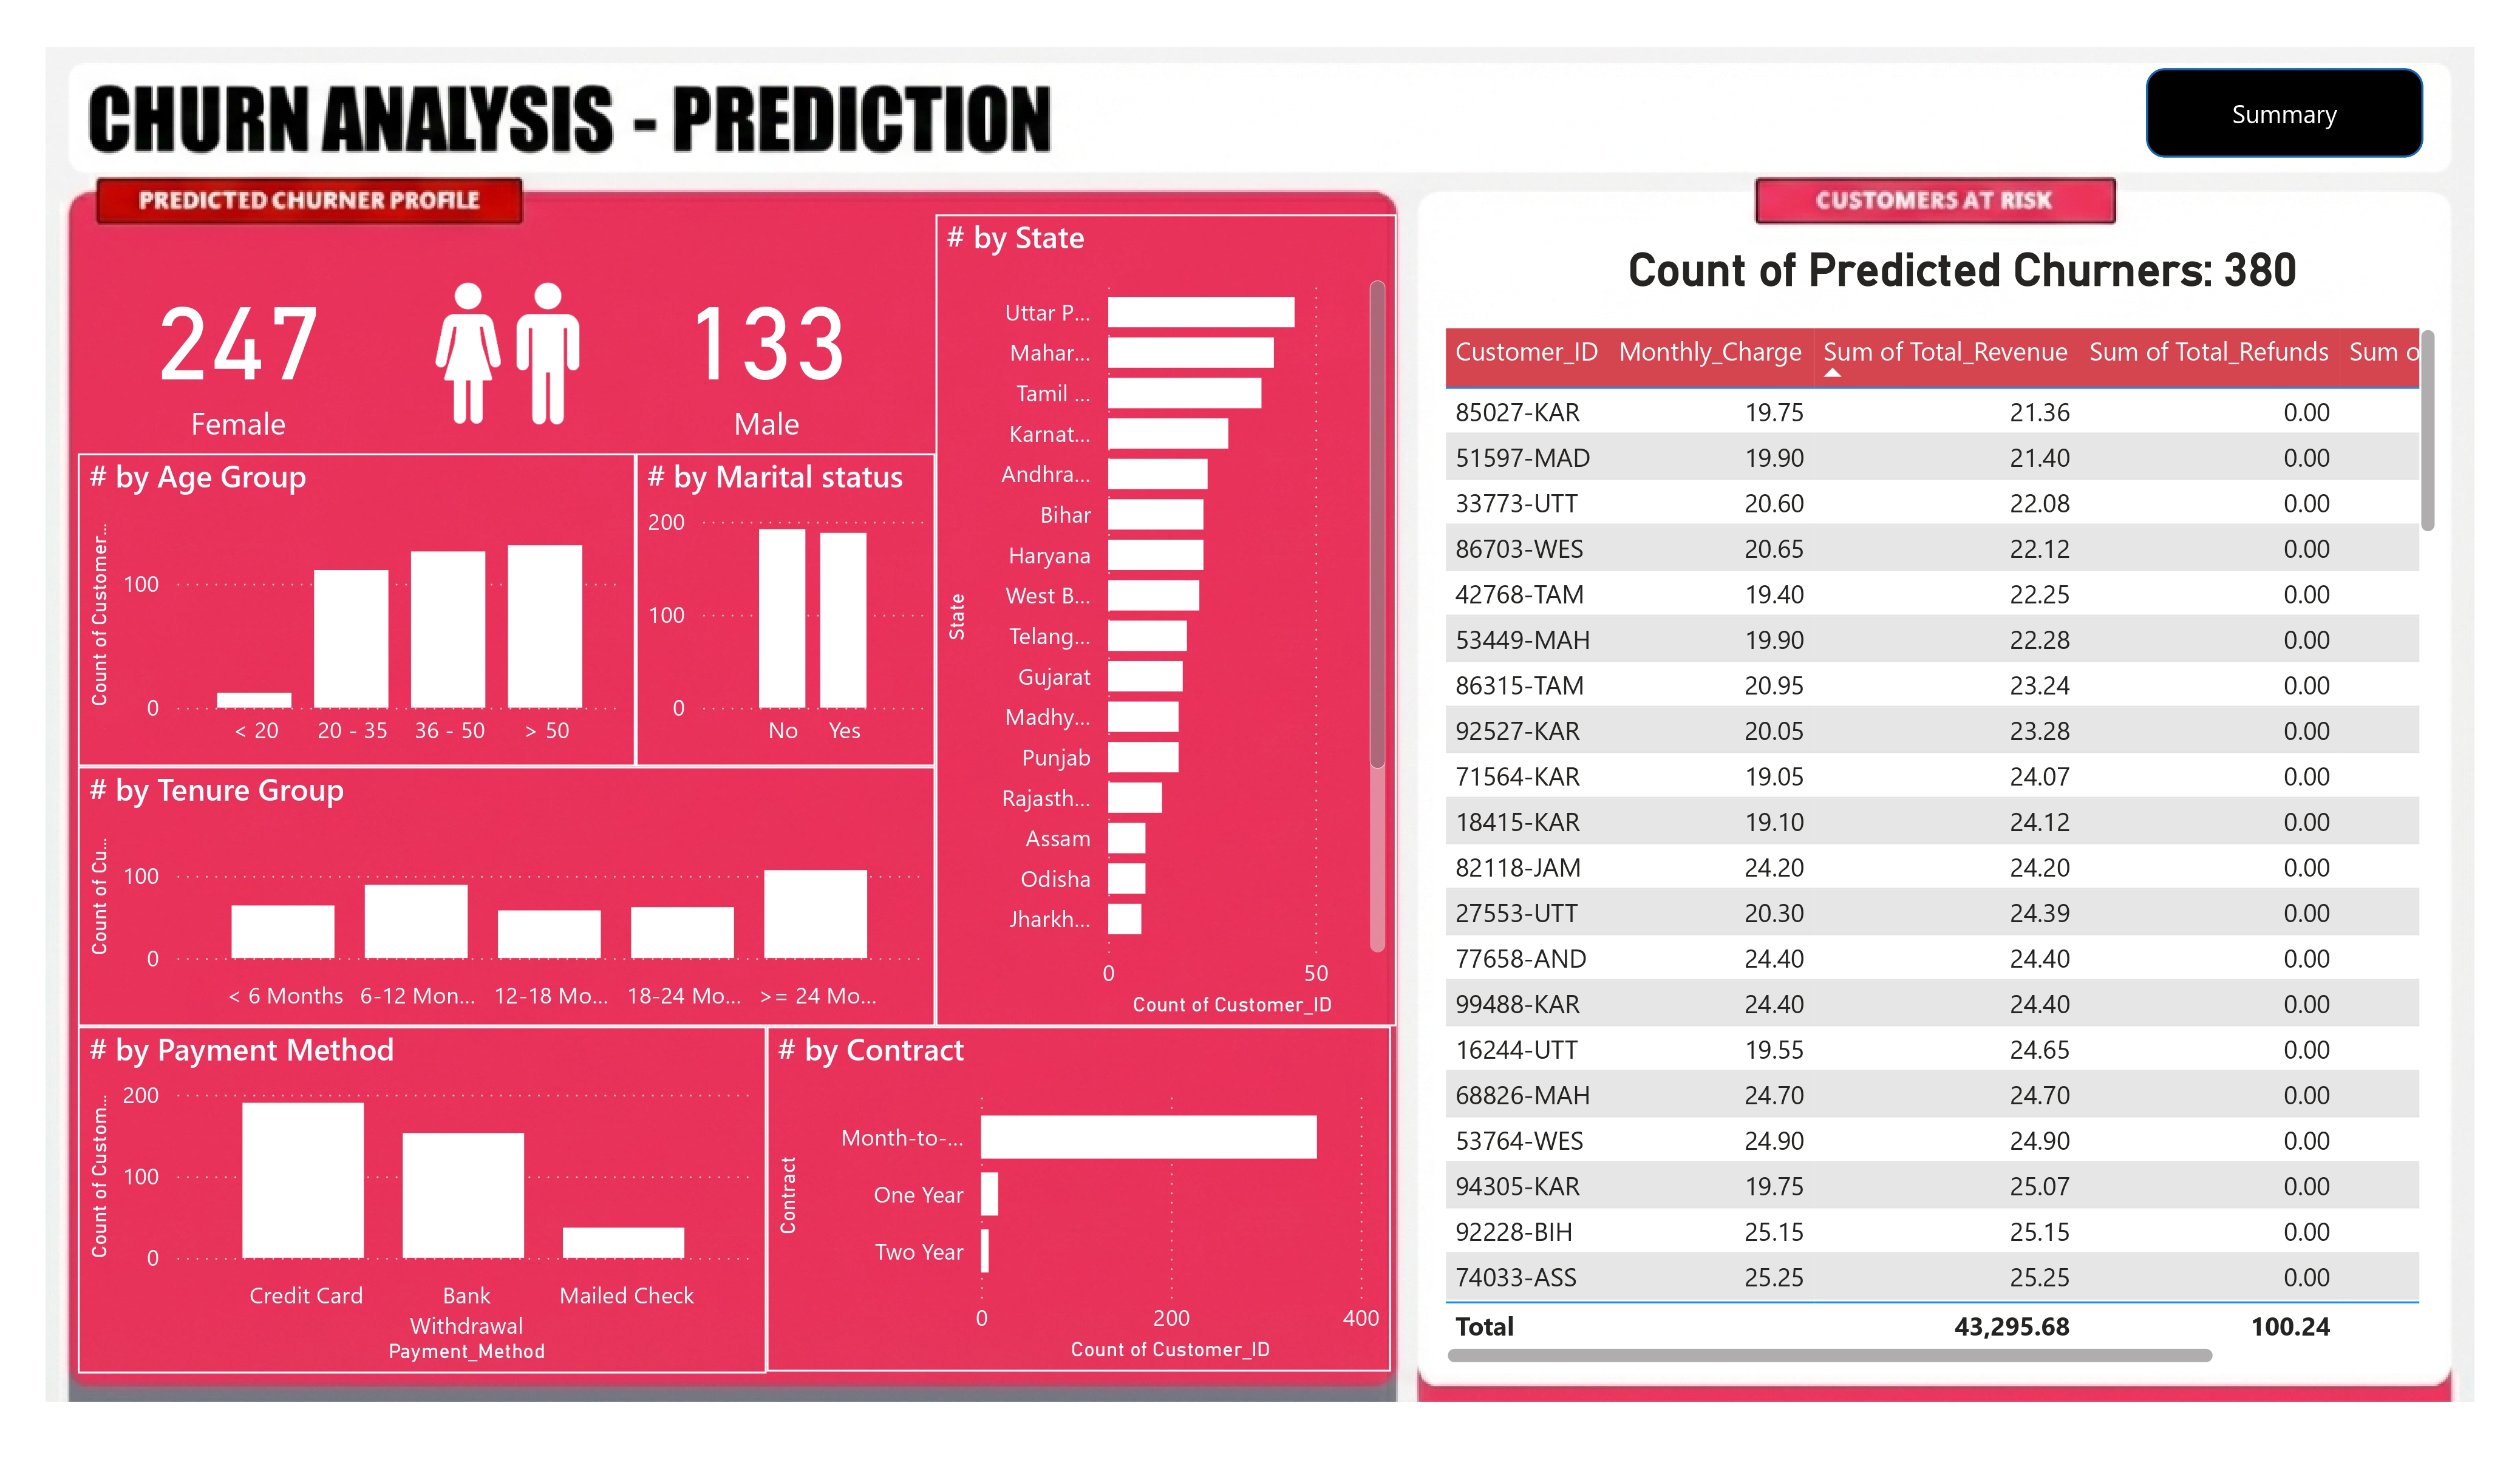

The dashboard page shown, as its layout file describes it:
{"tool":"powerbi","page":{"name":"Churn Prediction","canvas":[1280,720],"ordinal":1},"visuals":[{"type":"tableEx","fields":{"Values":["Predictions.Customer_ID","Predictions.Monthly_Charge","Sum(Predictions.Total_Revenue)","Sum(Predictions.Total_Refunds)","Sum(Predictions.Number_of_Referrals)"]},"box":[732.4,144.5,532.5,556],"z":0},{"type":"card","fields":{"Values":["Measure Table.Title Predicted Churner"]},"box":[767.7,100.8,485.5,31.9],"z":1000},{"type":"card","fields":{"Values":["Measure Table.Count Predicted Churner"]},"box":[16.8,105.8,169.7,109.2],"z":2000},{"type":"card","fields":{"Values":["Measure Table.Count Predicted Churner"]},"box":[290.6,105.8,178.1,109.2],"z":3000},{"type":"clusteredColumnChart","title":"# by Age Group","fields":{"Category":["mapping_AgeGrp.Age Group"],"Y":["CountNonNull(Predictions.Customer_ID)"]},"box":[16.8,215,294,164.6],"z":4000},{"type":"clusteredColumnChart","title":"# by Marital status","fields":{"Y":["CountNonNull(Predictions.Customer_ID)"],"Category":["Predictions.Married"]},"box":[310.8,215,157.9,164.6],"z":5000},{"type":"clusteredColumnChart","title":"# by Tenure Group","fields":{"Y":["CountNonNull(Predictions.Customer_ID)"],"Category":["mapping_TenureGrp.Tenure Group"]},"box":[16.8,379.6,451.9,137.7],"z":6000},{"type":"clusteredColumnChart","title":"# by Payment Method","fields":{"Y":["CountNonNull(Predictions.Customer_ID)"],"Category":["Predictions.Payment_Method"]},"box":[16.8,517.4,362.8,183.1],"z":7000},{"type":"clusteredBarChart","title":"# by Contract","fields":{"Category":["Predictions.Contract"],"Y":["CountNonNull(Predictions.Customer_ID)"]},"box":[379.6,517.4,329.2,181.4],"z":8000},{"type":"clusteredBarChart","title":"# by State","fields":{"Category":["Predictions.State"],"Y":["CountNonNull(Predictions.Customer_ID)"]},"box":[468.7,89,243.6,428.3],"z":9000},{"type":"image","box":[191.5,104.1,104.1,114.2],"z":10000},{"type":"shape","box":[1107,11.8,146.1,47],"z":11000}]}

Visuals, with their boxes on the page's 1280x720 design canvas (x1, y1, x2, y2). These are canvas units, not pixel positions in the 2520x1457 screenshot, which may show the page scaled, cropped or inside an application window:
tableEx - Predictions.Customer_ID x Predictions.Monthly_Charge: [x1=732, y1=144, x2=1265, y2=700]
card - Measure Table.Title Predicted Churner: [x1=768, y1=101, x2=1253, y2=133]
card - Measure Table.Count Predicted Churner: [x1=17, y1=106, x2=186, y2=215]
card - Measure Table.Count Predicted Churner: [x1=291, y1=106, x2=469, y2=215]
"# by Age Group" clusteredColumnChart: [x1=17, y1=215, x2=311, y2=380]
"# by Marital status" clusteredColumnChart: [x1=311, y1=215, x2=469, y2=380]
"# by Tenure Group" clusteredColumnChart: [x1=17, y1=380, x2=469, y2=517]
"# by Payment Method" clusteredColumnChart: [x1=17, y1=517, x2=380, y2=700]
"# by Contract" clusteredBarChart: [x1=380, y1=517, x2=709, y2=699]
"# by State" clusteredBarChart: [x1=469, y1=89, x2=712, y2=517]
image: [x1=192, y1=104, x2=296, y2=218]
shape: [x1=1107, y1=12, x2=1253, y2=59]
